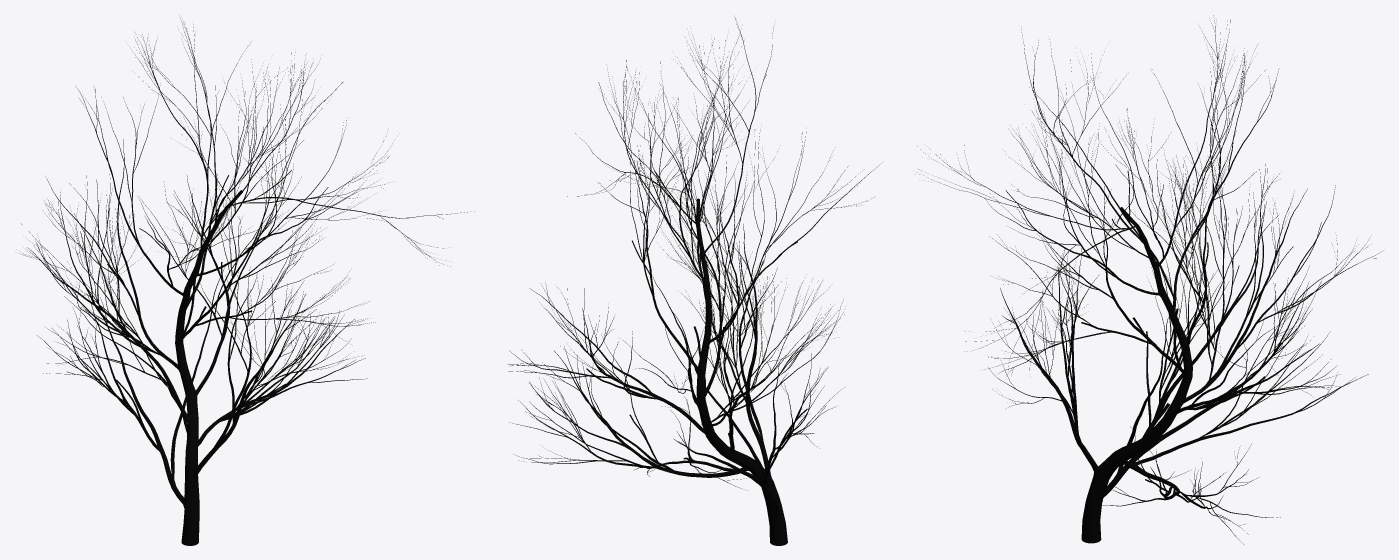
Rendered from Boom7.fbx.
The picture shows the model from 3 angles, left to right: view 1: azimuth 30°, elevation 25°; view 2: azimuth 150°, elevation 25°; view 3: azimuth 270°, elevation 25°; orthographic projection. The views are drawn at different scales.
Visible parts, largest first — view 1: tree.019; view 2: tree.019; view 3: tree.019.
Boxes of the visible parts, x1,y1,x2,y2 form: tree.019: (21,21,474,545); tree.019: (508,18,881,545); tree.019: (917,15,1381,544).
Bounding box in the file's own units: 1423 × 1816 × 1448.
